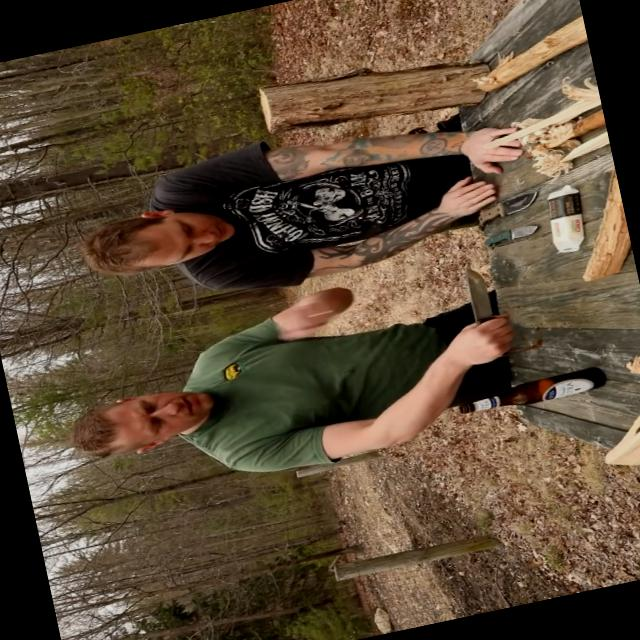knife: (440, 252, 524, 361)
